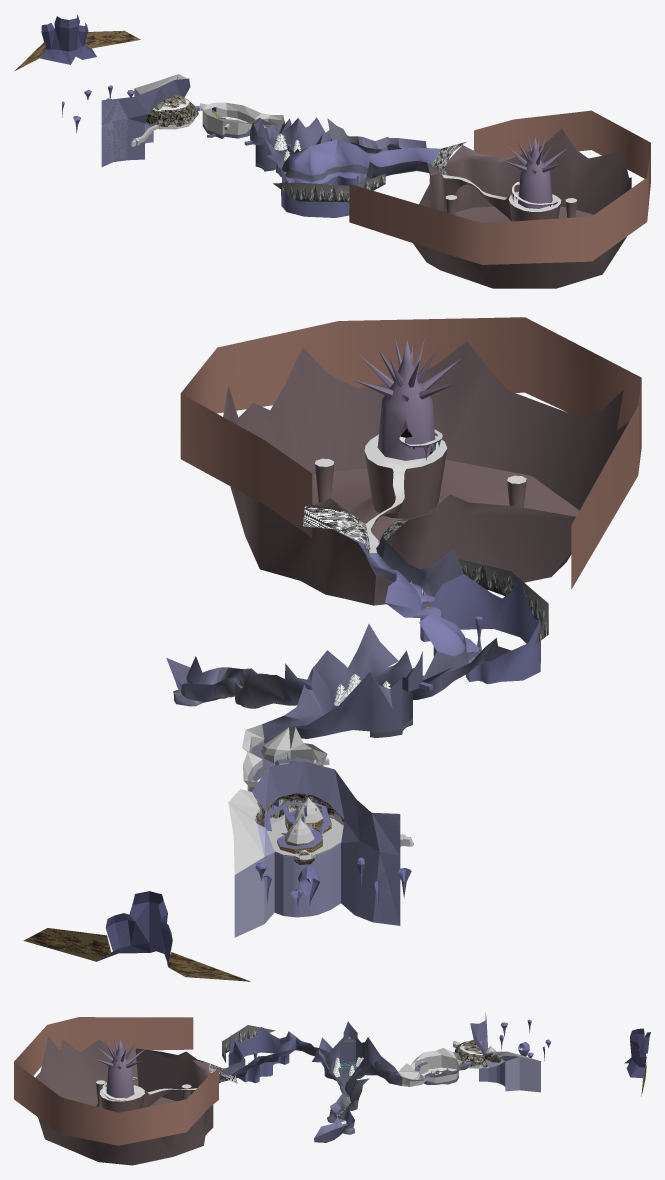
Rendered from SnowheadOG.obj.
3 views of the same model, one above another, from view 1: azimuth 30°, elevation 25°; view 2: azimuth 150°, elevation 25°; view 3: azimuth 270°, elevation 25° (orthographic). The views are drawn at different scales.
Size of the model in its own units: 12679 by 4864 by 24232.
